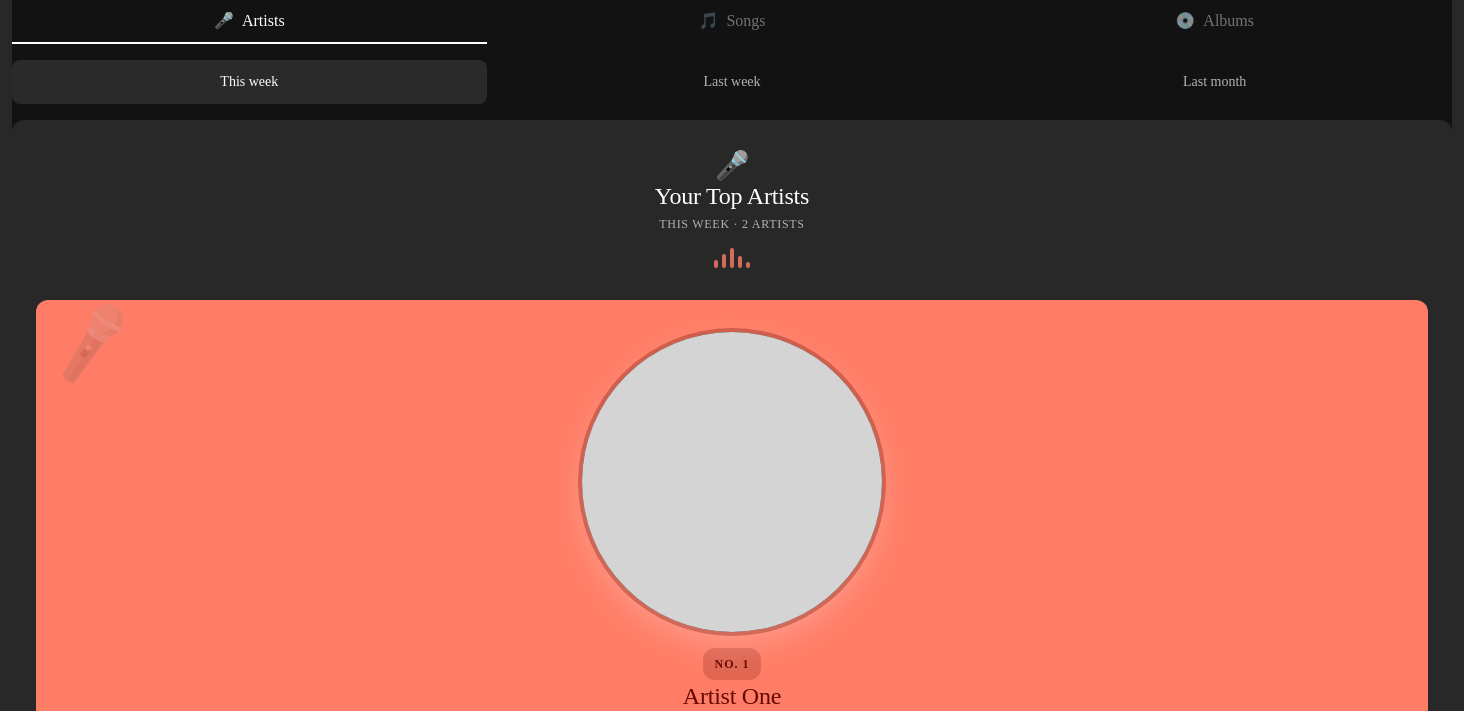
Test: TopItemsView › switches to Songs and renders the track list with its subtitle
Expected: the heading "Your Top Artists" is shown, x1=655 y1=184 x2=809 y2=208
Click the tab "🎵 Songs" at point(732, 22), box x1=495 y1=0 x2=969 y2=44
(page scrolled)
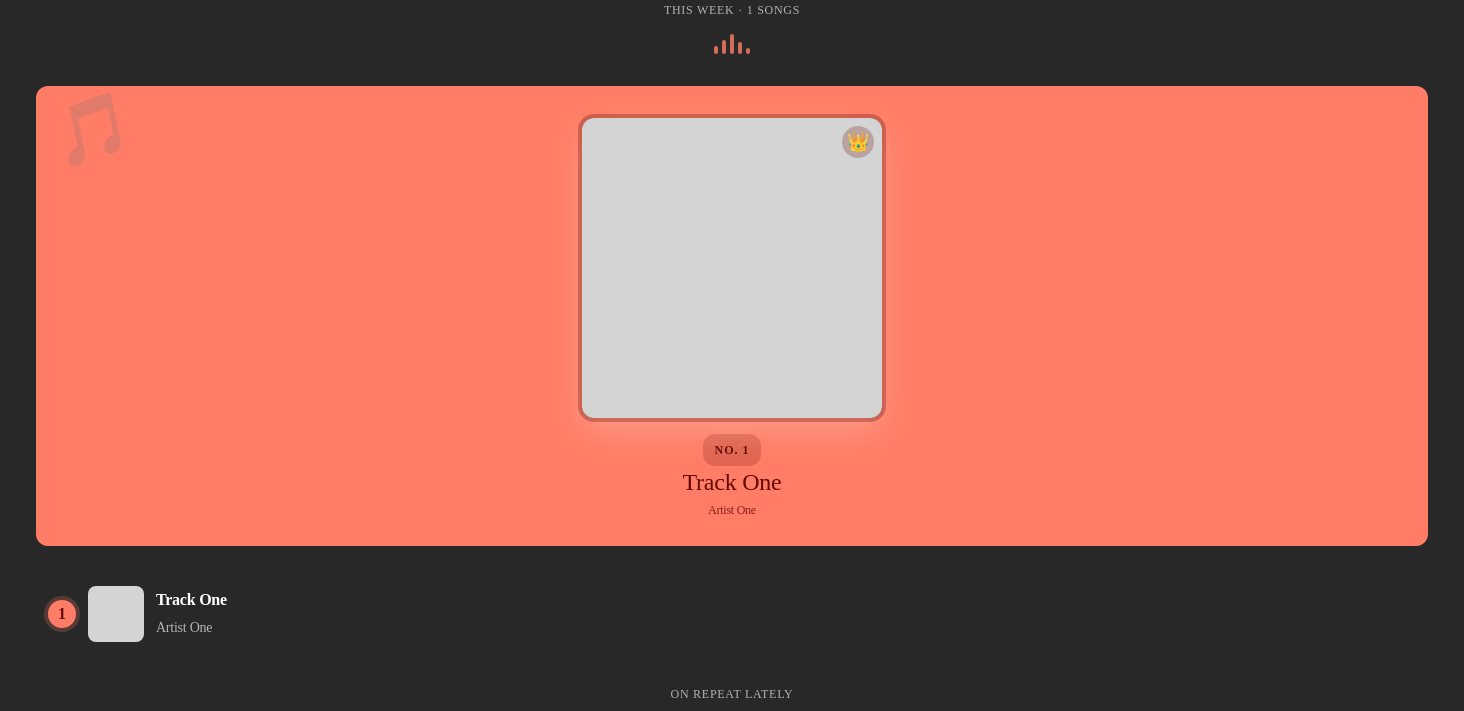
Expected: the 2nd text "Artist One" is shown, x1=156 y1=620 x2=212 y2=635
Expected: the 2nd text "Track One" is shown, x1=156 y1=591 x2=227 y2=608
